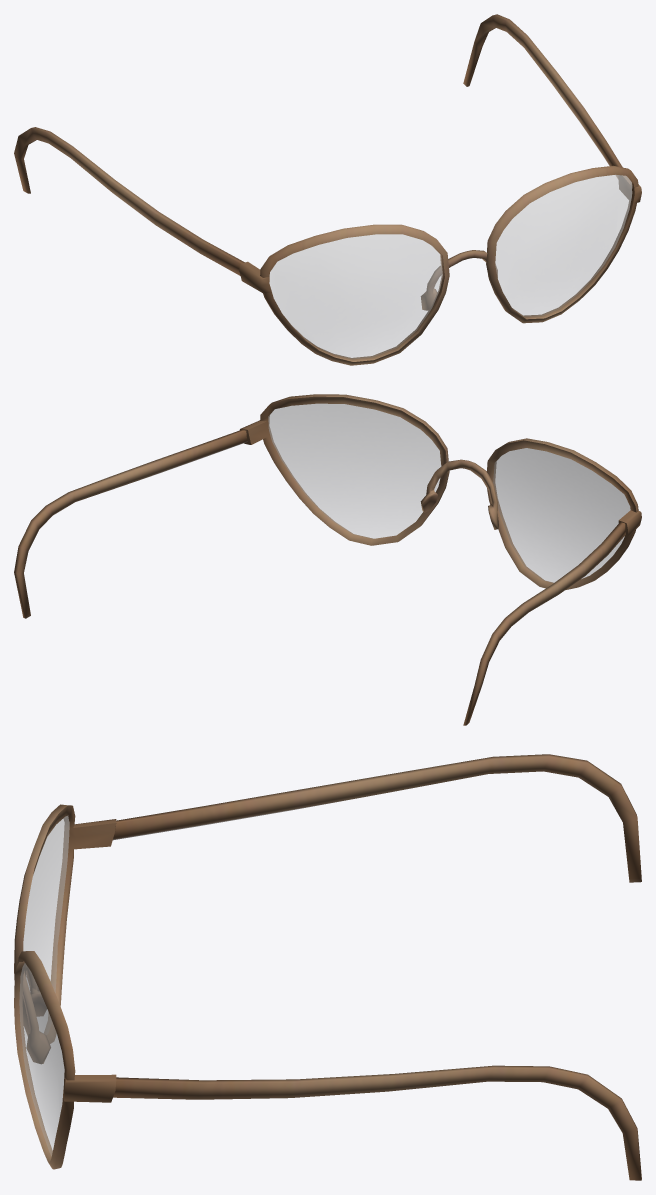
The picture shows the model from 3 angles, top to bottom: view 1: azimuth 30°, elevation 25°; view 2: azimuth 150°, elevation 25°; view 3: azimuth 270°, elevation 25°; orthographic projection. The views are drawn at different scales.
Visible parts, largest first — view 1: Wolf3D_Glasses; view 2: Wolf3D_Glasses; view 3: Wolf3D_Glasses.
Part boxes in pixels (x1,y1,x2,y2): Wolf3D_Glasses: [14, 14, 641, 365]; Wolf3D_Glasses: [14, 394, 641, 725]; Wolf3D_Glasses: [14, 754, 641, 1180].
Size of the model in its own units: 0.1635 by 0.0474 by 0.1368.
1 material, 1 textured.
